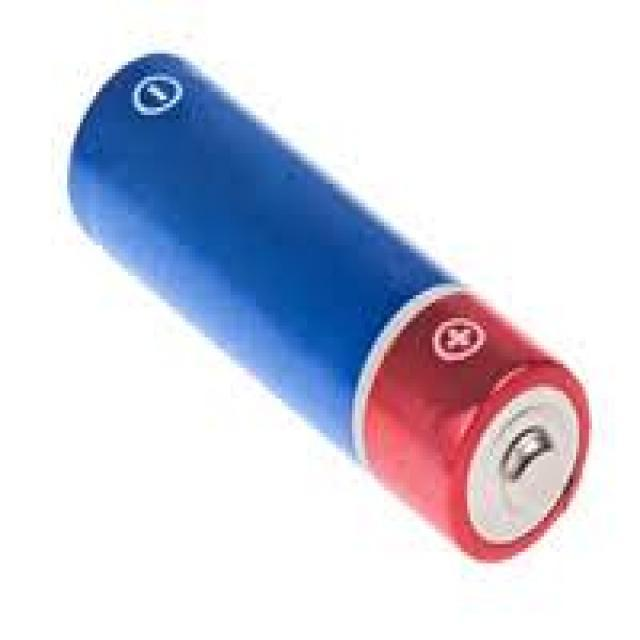battery: (64, 46, 589, 566)
